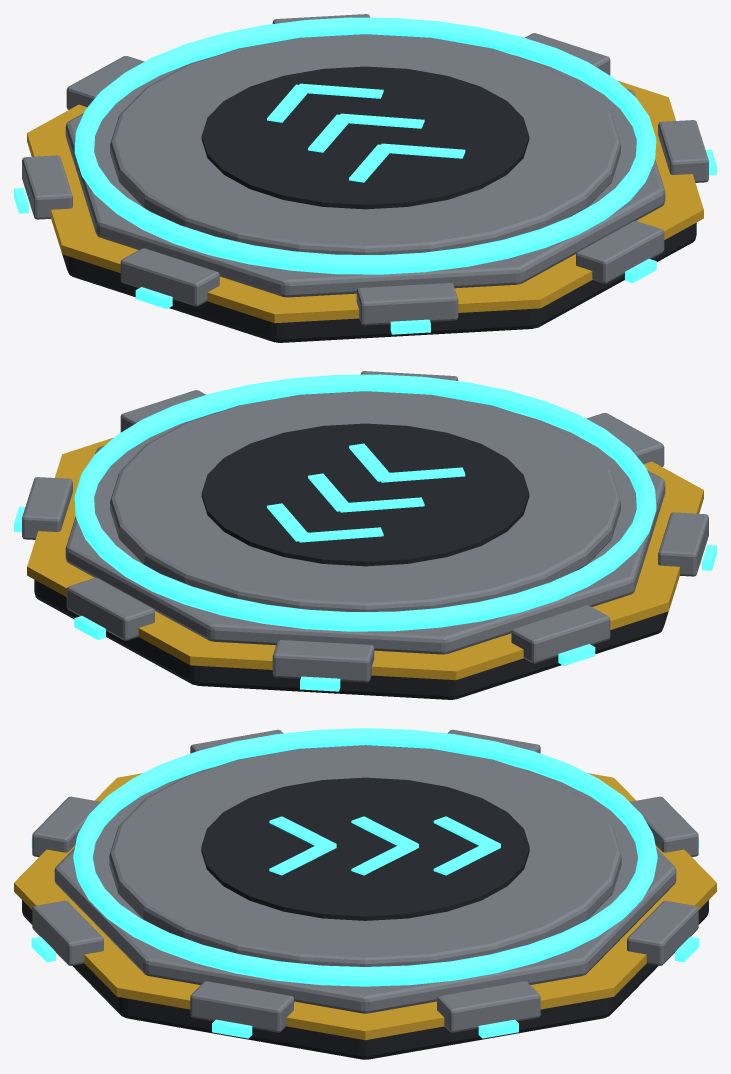
Rendered from td_jumppad.glb.
3 views of the same model, one above another, from view 1: azimuth 30°, elevation 25°; view 2: azimuth 150°, elevation 25°; view 3: azimuth 270°, elevation 25° (orthographic).
Parts seen in each view (by area): view 1: PadPlate, PadBase, PadRing; view 2: PadPlate, PadBase, PadRing; view 3: PadPlate, PadBase, PadRing.
Boxes of the visible parts, bbox=[...] form: PadPlate: bbox=[110, 34, 620, 254]; PadBase: bbox=[14, 14, 716, 342]; PadRing: bbox=[74, 17, 656, 274]; PadPlate: bbox=[110, 391, 620, 611]; PadBase: bbox=[14, 371, 716, 699]; PadRing: bbox=[74, 374, 656, 631]; PadPlate: bbox=[109, 745, 621, 966]; PadBase: bbox=[14, 729, 716, 1059]; PadRing: bbox=[73, 728, 657, 986].
Size of the model in its own units: 2.14 by 0.2425 by 2.14.
